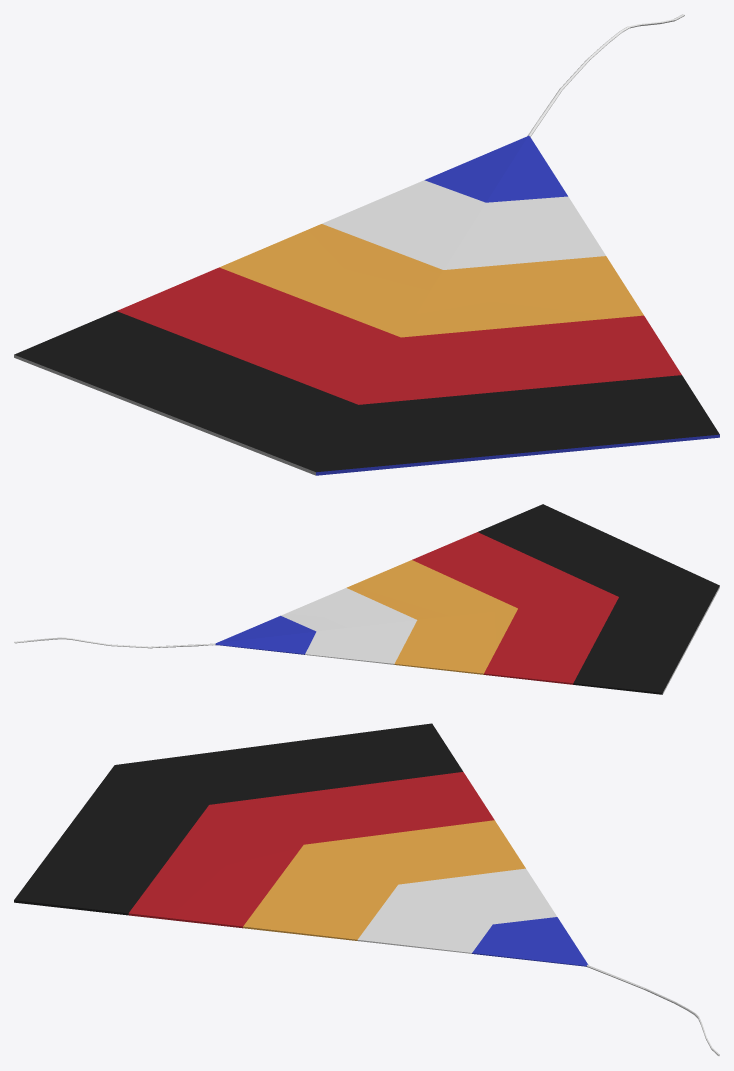
The model's file is kite1 1.fbx.
3 views of the same model, one above another, from view 1: azimuth 30°, elevation 25°; view 2: azimuth 150°, elevation 25°; view 3: azimuth 270°, elevation 25° (orthographic). The views are drawn at different scales.
Visible parts, largest first — view 1: Cube; view 2: Cube; view 3: Cube.
Boxes of the visible parts, box(x1,y1,x2,y2) form: Cube: box(14, 14, 719, 475); Cube: box(14, 504, 719, 694); Cube: box(14, 723, 719, 1056).
Bounding box in the file's own units: 333 × 8.02 × 297.
